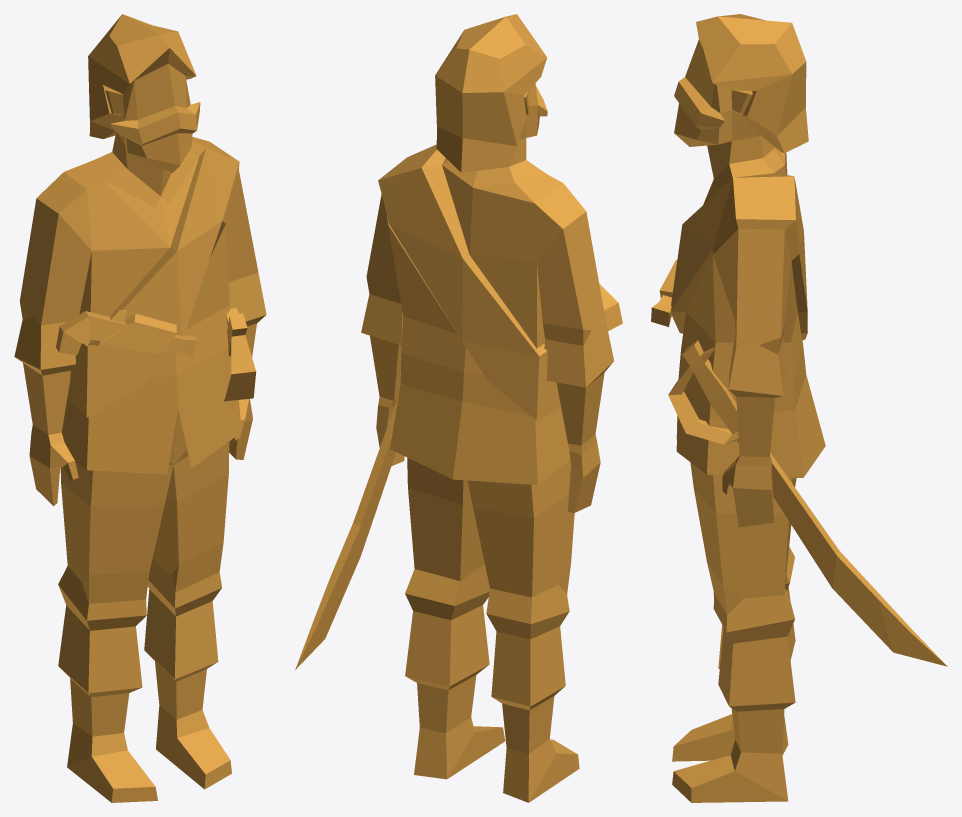
Rendered from man-pirate.fbx.
The picture shows the model from 3 angles, left to right: view 1: azimuth 30°, elevation 25°; view 2: azimuth 150°, elevation 25°; view 3: azimuth 270°, elevation 25°; orthographic projection.
Visible parts, largest first — view 1: man-pirate; view 2: man-pirate; view 3: man-pirate.
Boxes of the visible parts, <box> form: man-pirate: <box>14,14,266,802</box>; man-pirate: <box>295,14,622,802</box>; man-pirate: <box>651,14,947,802</box>.
Size of the model in its own units: 0.5836 by 1.84 by 0.6532.
